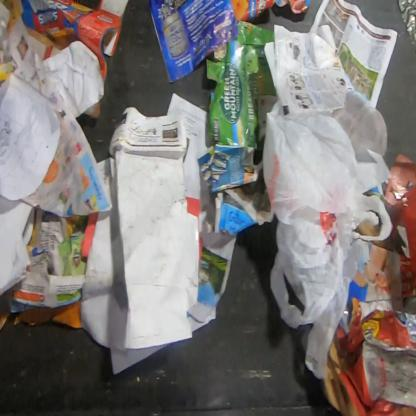cardboard: (205, 19, 278, 152), (19, 0, 131, 86), (321, 338, 358, 415), (82, 99, 102, 119)
soft_plastic: (262, 101, 394, 381), (335, 296, 415, 415)
